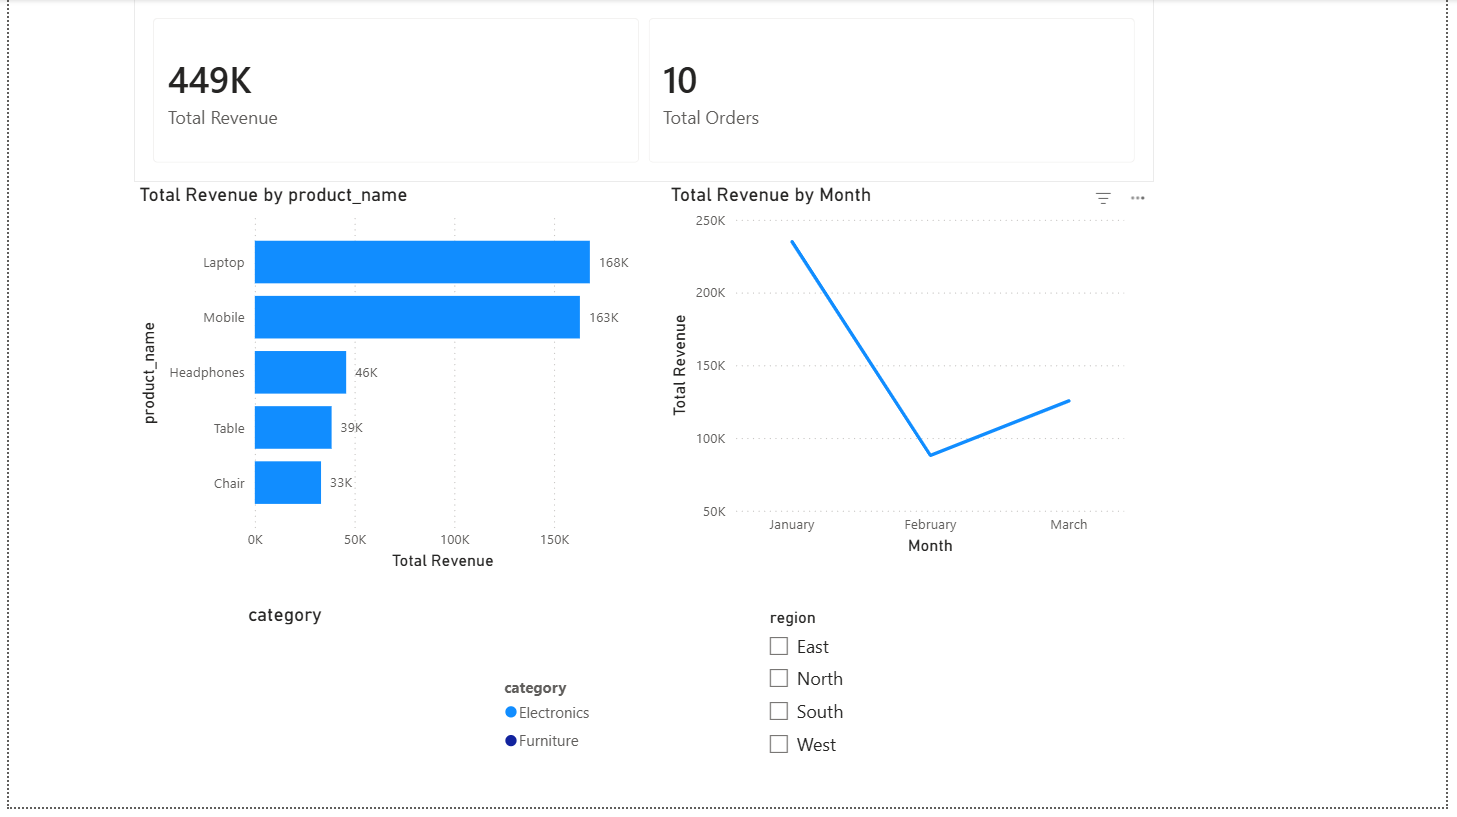

Layout of this report page (visuals, bound fields, positions):
{"tool":"powerbi","page":{"name":"Page 1","canvas":[1280,720],"ordinal":0},"visuals":[{"type":"lineChart","fields":{"Category":["sales.order_date.Variation.Date Hierarchy.Month"],"Y":["sales.Total Revenue"]},"box":[621.2,18.8,377.5,330],"z":3},{"type":"clusteredBarChart","fields":{"Category":["sales.product_name"],"Y":["sales.Total Revenue"]},"box":[26.2,360,463.8,350],"z":5},{"type":"pieChart","fields":{"Category":["sales.category"]},"box":[525,406.2,285,257.5],"z":6},{"type":"slicer","fields":{"Values":["sales.region"]},"box":[882.5,406.2,232.5,250],"z":7},{"type":"cardVisual","fields":{"Data":["sales.Total Revenue","sales.Total Orders"]},"box":[61.2,18.8,463.8,305],"z":8}]}

Visuals, with their boxes in screenshot pixels (x1, y1, x2, y2), scaled from the page's 1280x720 canvas onto the 1457x817 screenshot:
lineChart - sales.order_date.Variation.Date Hierarchy.Month x sales.Total Revenue: 707/21/1137/396
clusteredBarChart - sales.product_name x sales.Total Revenue: 30/408/558/806
pieChart - sales.category: 598/461/922/753
slicer - sales.region: 1005/461/1269/745
cardVisual - sales.Total Revenue x sales.Total Orders: 70/21/598/367
